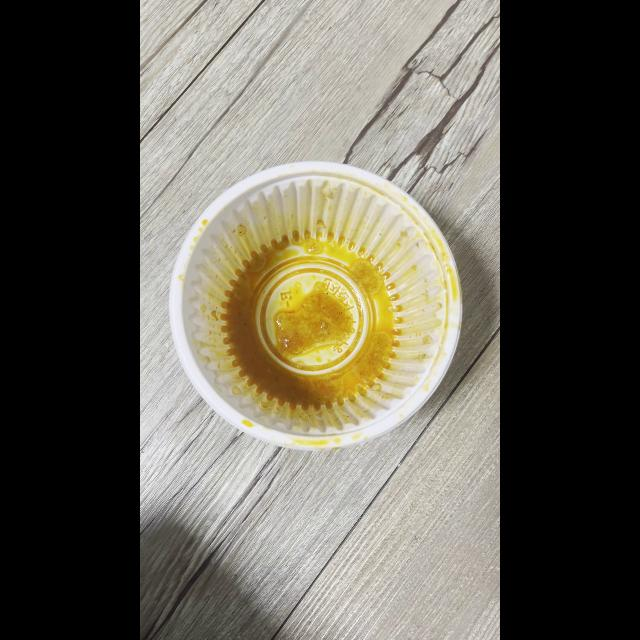dirty: (169, 163, 461, 441)
